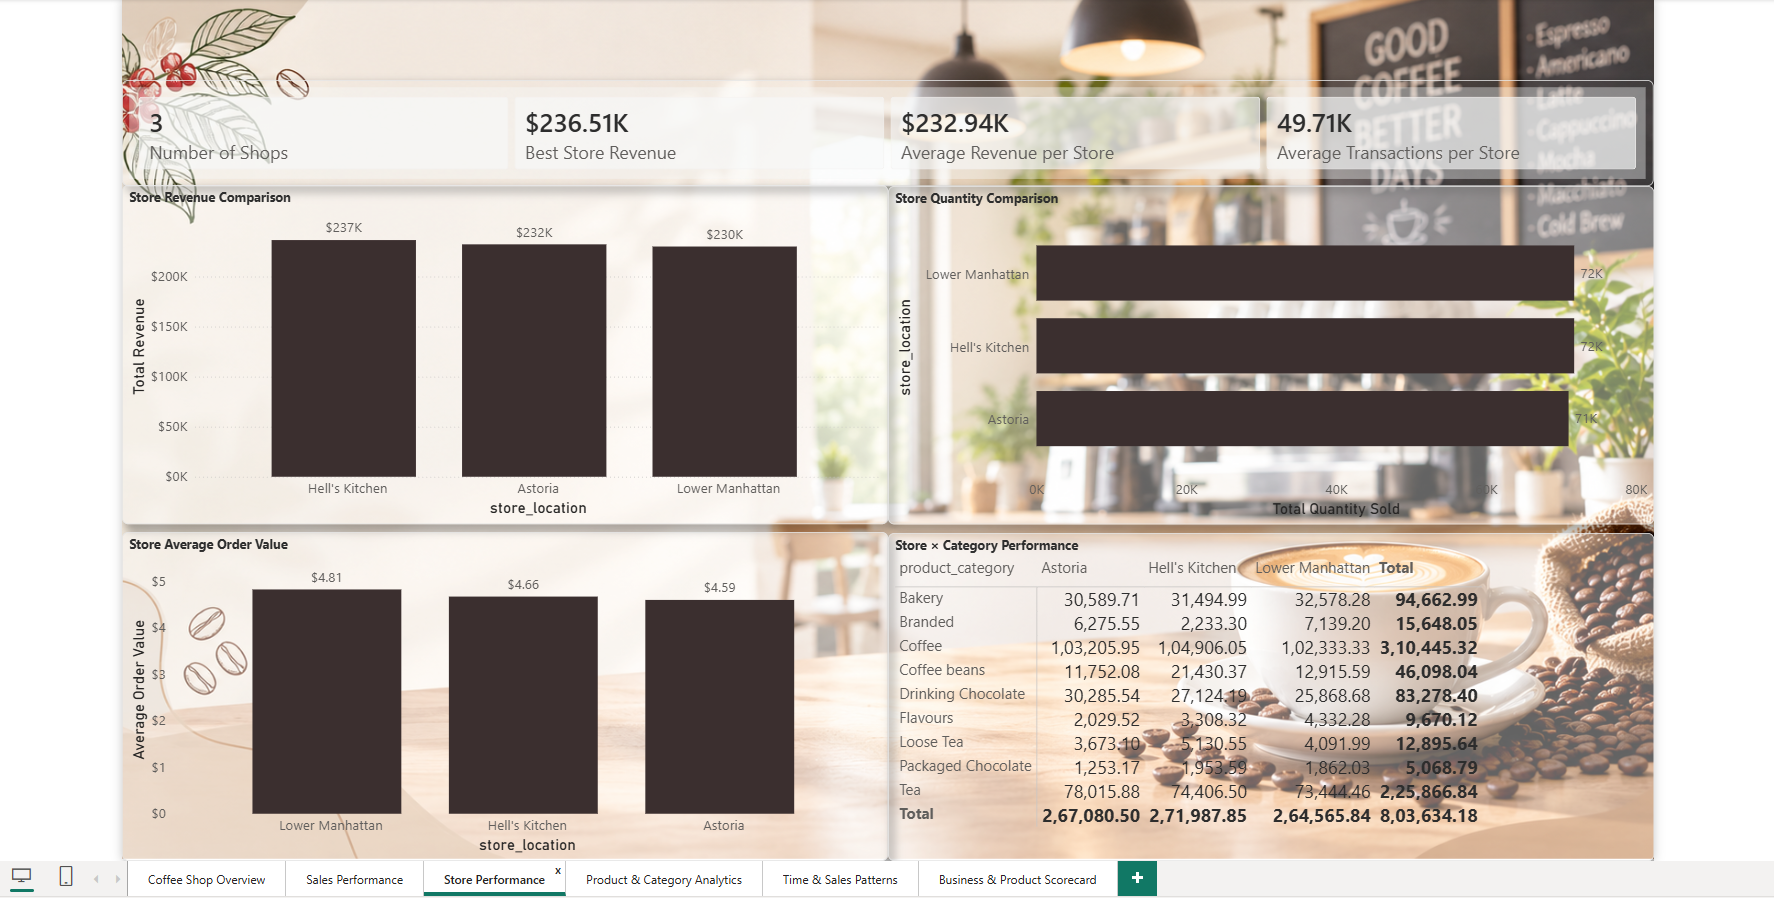

The dashboard page shown, as its layout file describes it:
{"tool":"powerbi","page":{"name":"Store Performance","canvas":[1920,1080],"ordinal":2},"visuals":[{"type":"cardVisual","fields":{"Data":["Coffee Shop Sales.Number of Stores","Coffee Shop Sales.Best Store Revenue","Coffee Shop Sales.Average Revenue per Store","Coffee Shop Sales.Average Transactions per Store"]},"box":[0,101.1,1919.3,133],"z":0},{"type":"clusteredColumnChart","title":"Store Revenue Comparison","fields":{"Category":["Coffee Shop Sales.store_location"],"Y":["Coffee Shop Sales.Total Revenue"]},"box":[0,233.4,960,424.6],"z":1000},{"type":"clusteredBarChart","title":"Store Quantity Comparison","fields":{"Category":["Coffee Shop Sales.store_location"],"Y":["Coffee Shop Sales.Total Quantity Sold"]},"box":[960.3,234.1,960.3,424.3],"z":2000},{"type":"clusteredColumnChart","title":"Store Average Order Value","fields":{"Category":["Coffee Shop Sales.store_location"],"Y":["Coffee Shop Sales.Average Order Value"]},"box":[0,668,960,412],"z":3000},{"type":"pivotTable","title":"Store × Category Performance","fields":{"Rows":["Coffee Shop Sales.product_category"],"Values":["Coffee Shop Sales.Target Revenue"],"Columns":["Coffee Shop Sales.store_location"]},"box":[960.3,669,960.3,411],"z":4000}]}

Visuals, with their boxes on the page's 1920x1080 design canvas (x1, y1, x2, y2). These are canvas units, not pixel positions in the 1774x898 screenshot, which may show the page scaled, cropped or inside an application window:
cardVisual - Coffee Shop Sales.Number of Stores x Coffee Shop Sales.Best Store Revenue: rect(0, 101, 1919, 234)
"Store Revenue Comparison" clusteredColumnChart: rect(0, 233, 960, 658)
"Store Quantity Comparison" clusteredBarChart: rect(960, 234, 1921, 658)
"Store Average Order Value" clusteredColumnChart: rect(0, 668, 960, 1080)
"Store × Category Performance" pivotTable: rect(960, 669, 1921, 1080)
